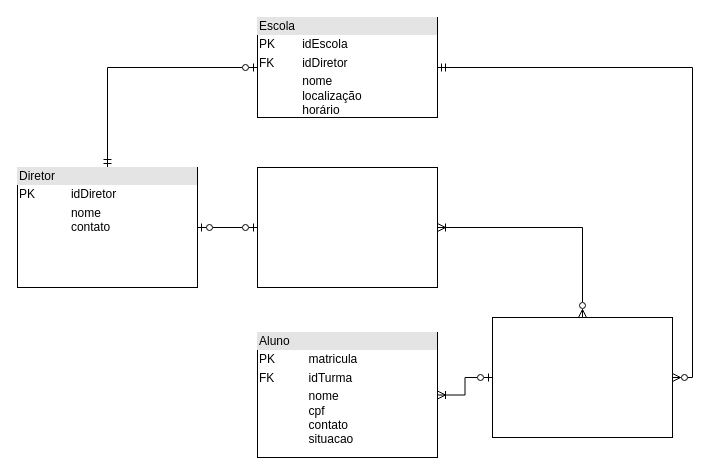
Some shapes in this 719 by 475 pixel diagram are drawn without their labels. Here are the shapes that lost their labels. From the top down, the centre of each, then its label:
the point at 347,227: Professor PK idProfessor FK idDiretor nome titulação contato
the point at 582,377: Turmas PK idTurma FK FK idProfessor idEscola assunto horário
